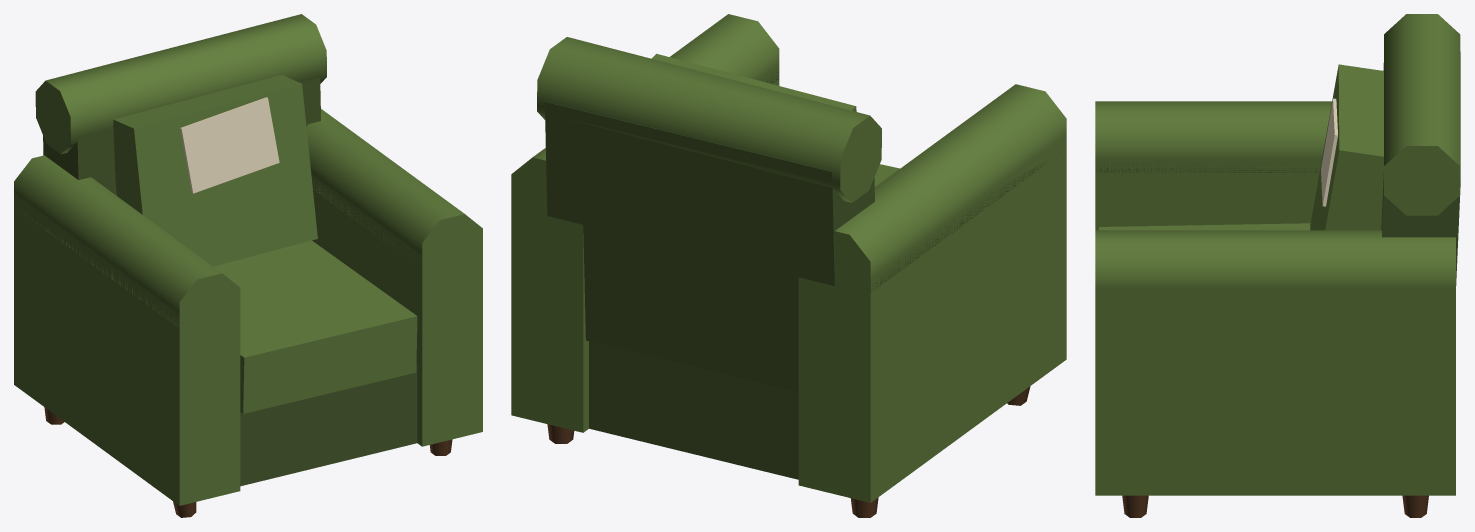
The model's file is Fauteuil.glb.
3 views of the same model, side by side, from view 1: azimuth 30°, elevation 25°; view 2: azimuth 150°, elevation 25°; view 3: azimuth 270°, elevation 25° (orthographic). The views are drawn at different scales.
Visible parts, largest first — view 1: Upholstery, Frame, Doily, FeetMerged; view 2: Upholstery, Frame, FeetMerged; view 3: Upholstery, Frame, FeetMerged, Doily.
Part boxes in pixels (x1=…): Upholstery: x1=14, y1=14, x2=482, y2=505; Frame: x1=43, y1=77, x2=417, y2=486; Doily: x1=180, y1=97, x2=279, y2=193; FeetMerged: x1=44, y1=407, x2=452, y2=517; Upholstery: x1=511, y1=14, x2=1066, y2=502; Frame: x1=544, y1=101, x2=874, y2=479; FeetMerged: x1=547, y1=386, x2=1030, y2=517; Upholstery: x1=1095, y1=14, x2=1460, y2=495; Frame: x1=1381, y1=52, x2=1460, y2=285; FeetMerged: x1=1122, y1=495, x2=1428, y2=517; Doily: x1=1321, y1=98, x2=1337, y2=206.
Bounding box in the file's own units: 0.9 × 0.9557 × 0.8611.
